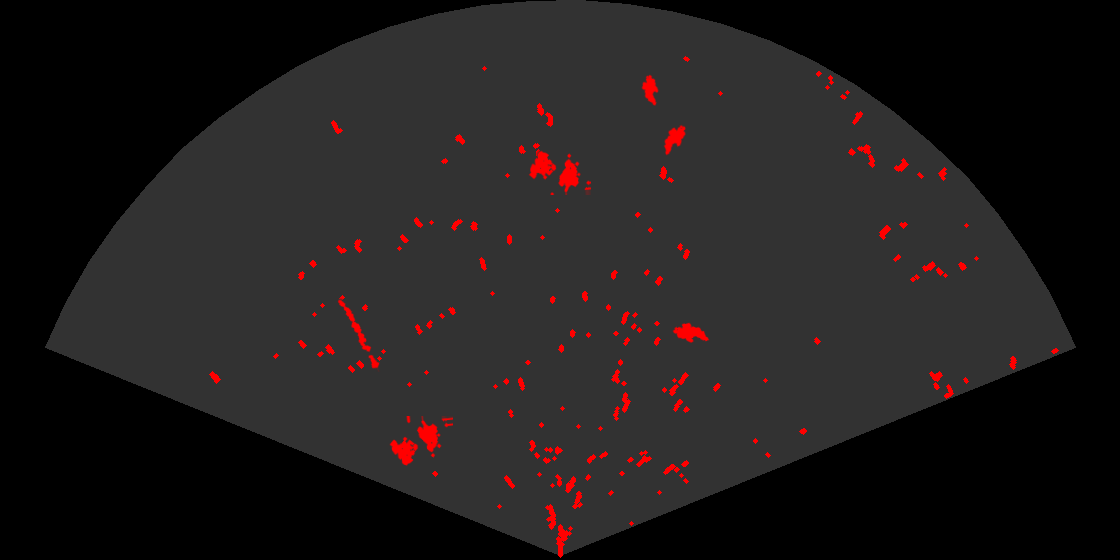AUV: (671, 321, 711, 344), (662, 123, 687, 157), (640, 73, 660, 107)
cage: (388, 416, 453, 467), (527, 149, 591, 195)
chain: (336, 298, 381, 372)
